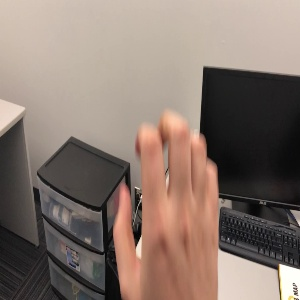hand: (113, 112, 218, 295)
